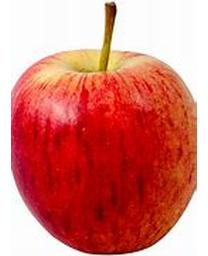apple: (11, 1, 197, 255)
